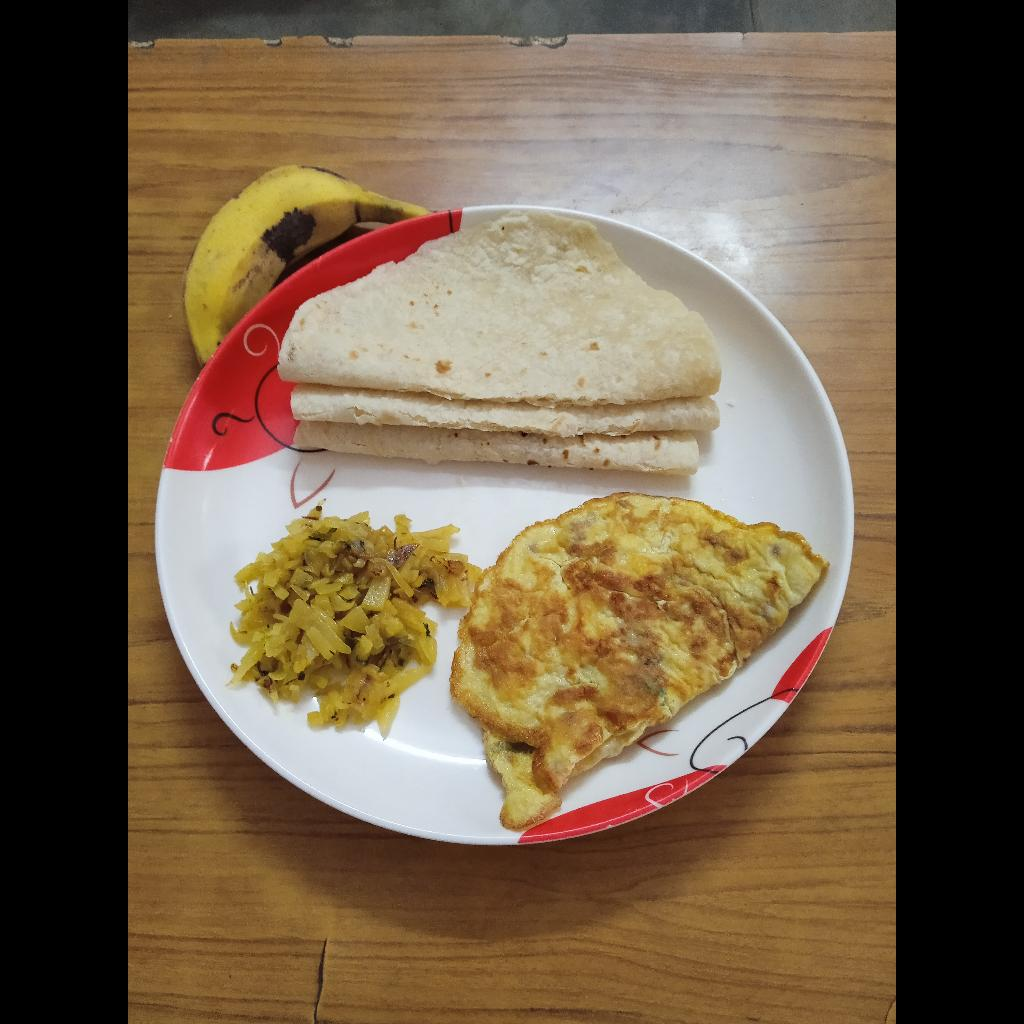banana: (184, 165, 431, 363)
cabbage: (225, 511, 449, 718)
egg-poached: (454, 497, 829, 825)
ruti: (281, 209, 723, 473)
